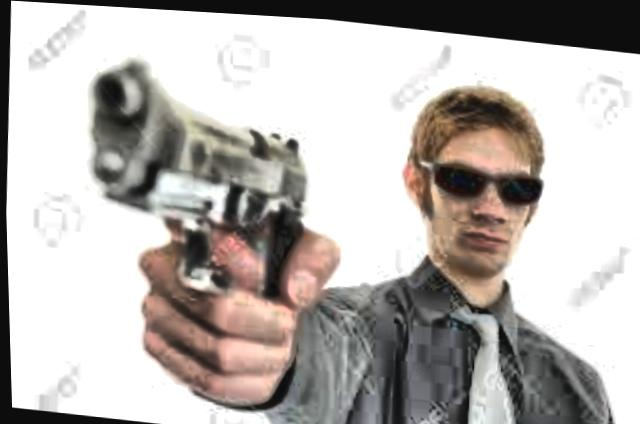pistol: (66, 42, 320, 324)
